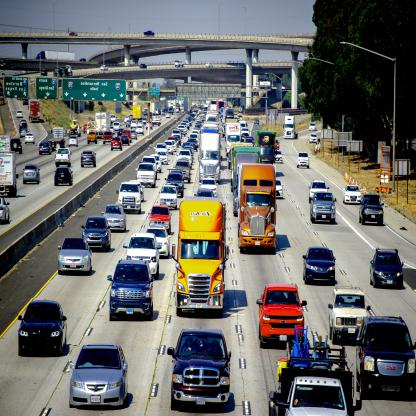car: (357, 318, 416, 401), (167, 330, 231, 405), (70, 346, 129, 409), (20, 299, 69, 359), (108, 262, 154, 323), (261, 283, 300, 350), (329, 291, 366, 344), (59, 239, 93, 279), (370, 250, 404, 289), (303, 251, 336, 287), (358, 195, 385, 228), (310, 194, 337, 225), (85, 218, 110, 250), (120, 184, 142, 216), (107, 207, 129, 231), (161, 185, 178, 210), (139, 165, 157, 188), (54, 169, 74, 189), (344, 185, 363, 205), (24, 164, 40, 187), (55, 149, 72, 166), (81, 153, 97, 171), (2, 198, 11, 227), (298, 153, 311, 169), (112, 138, 124, 153), (39, 143, 53, 153), (26, 134, 36, 147), (309, 122, 318, 134), (71, 136, 79, 146), (17, 111, 25, 118), (167, 113, 172, 119)
container: (174, 201, 228, 321), (239, 166, 277, 256), (200, 134, 223, 183), (283, 116, 299, 140)
truck: (2, 152, 19, 200)
